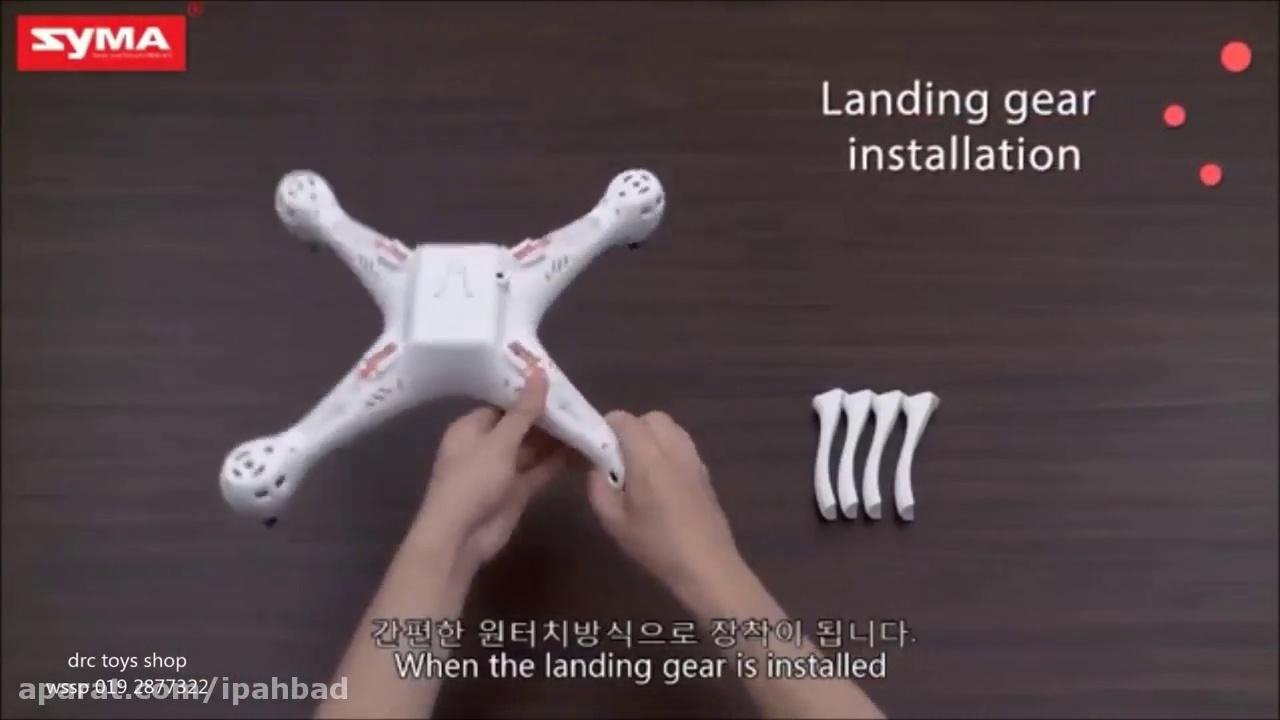drone: (210, 159, 681, 537)
